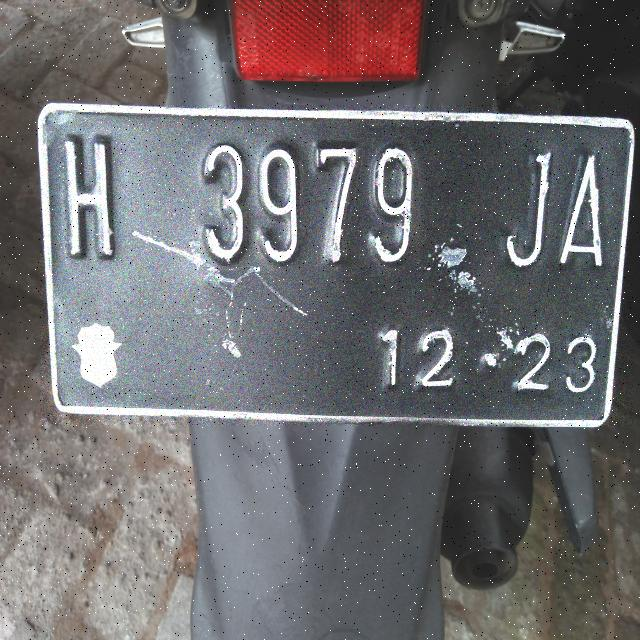plate: (40, 105, 632, 425)
